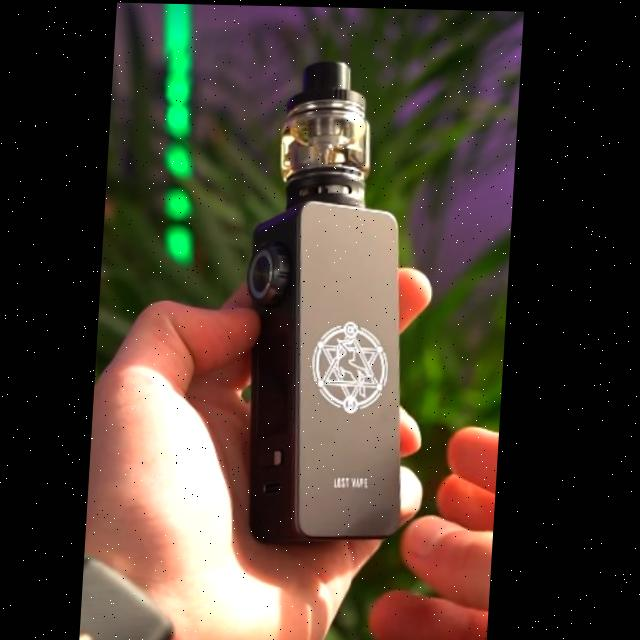vape: (235, 57, 430, 547)
